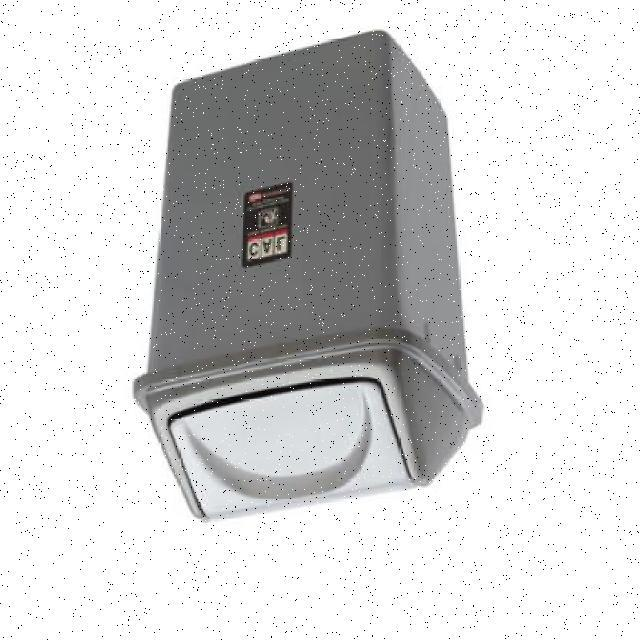garbage container: (127, 11, 498, 533)
